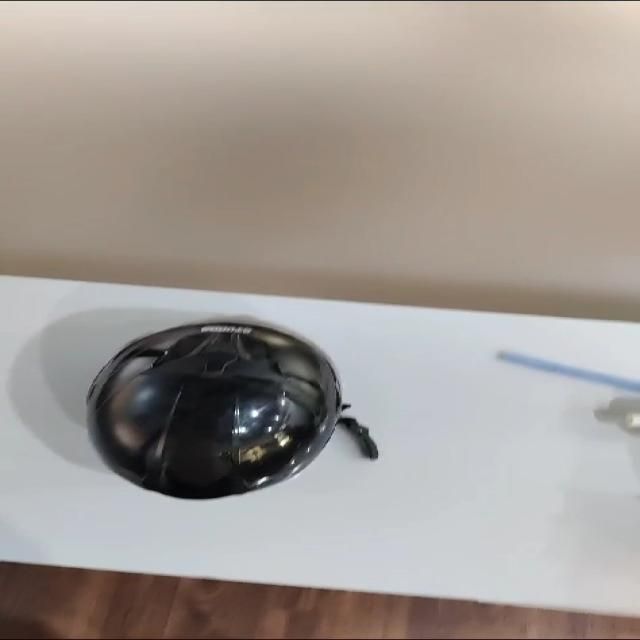helmet: (90, 306, 338, 504)
